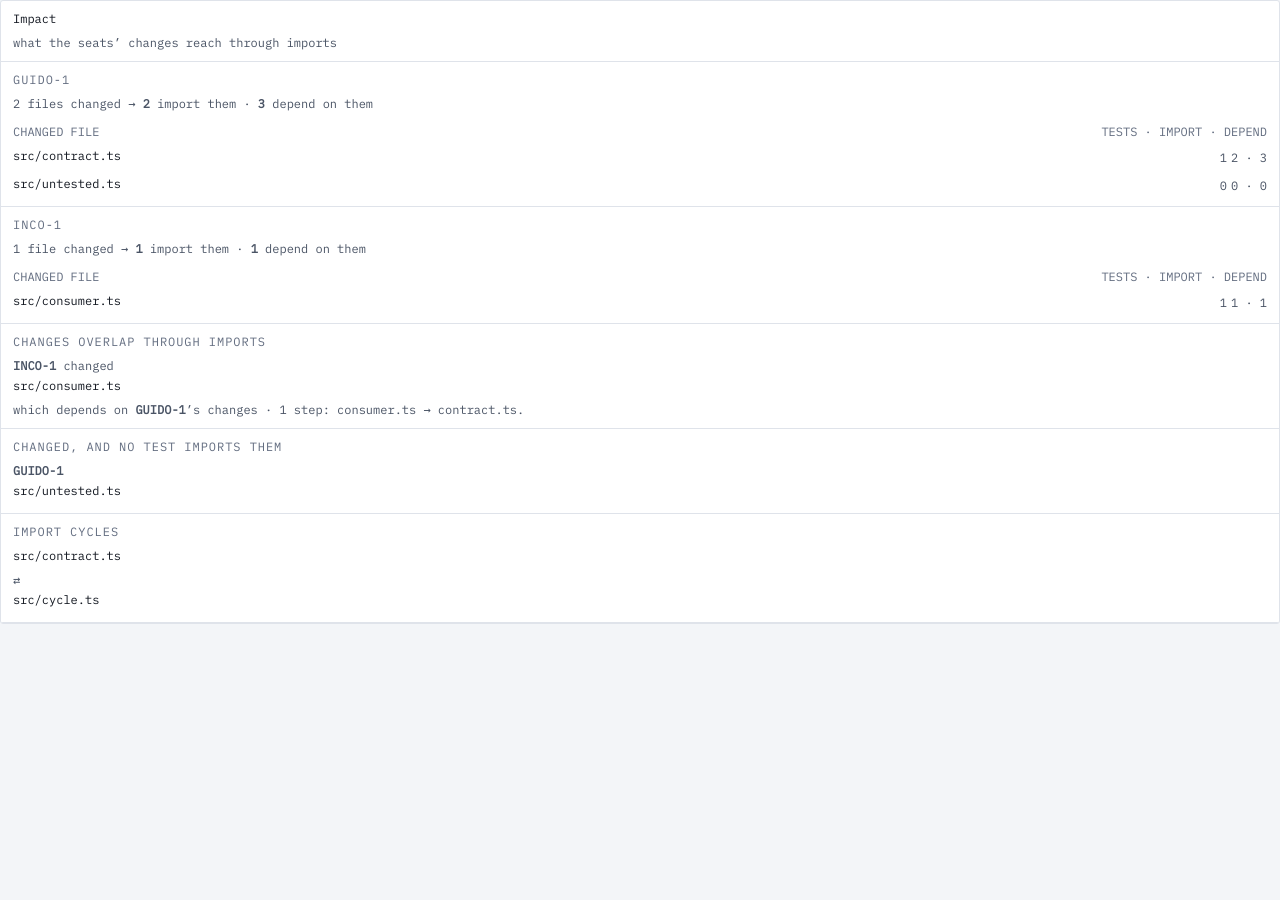
Test: shows Impact tallies, dependency overlap, untested changes, cycles, and a focused import trace
This screenshot has width=1280, height=900.
Expected: the element named "Impact lens" shows "Changes overlap through imports", top-left (13, 334), bottom-right (266, 349)
Expected: the element named "Impact lens" shows "Changed, and no test imports them", top-left (13, 439), bottom-right (282, 454)
Click the button with aria-label "src/contract.ts" at (67, 158), box top-left (13, 146), bottom-right (121, 170)
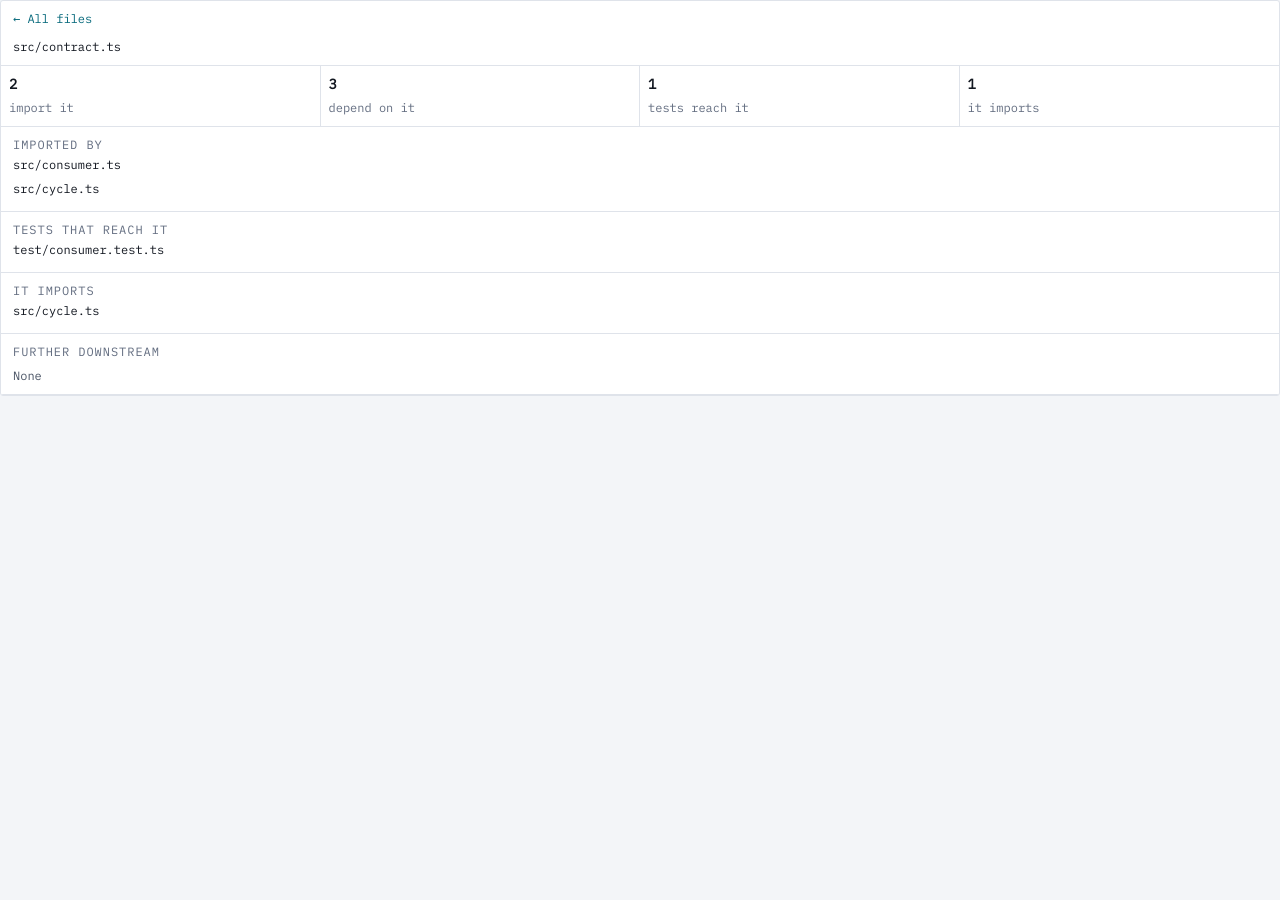
Now the element named "Impact lens" shows "Imported by", box top-left (13, 137), bottom-right (103, 152)
Now the element named "Impact lens" shows "Tests that reach it", box top-left (13, 222), bottom-right (168, 237)
Now the element named "Impact lens" shows "It imports", box top-left (968, 100), bottom-right (1040, 115)
Click the button "← All files" at (53, 21), box top-left (13, 9), bottom-right (92, 33)
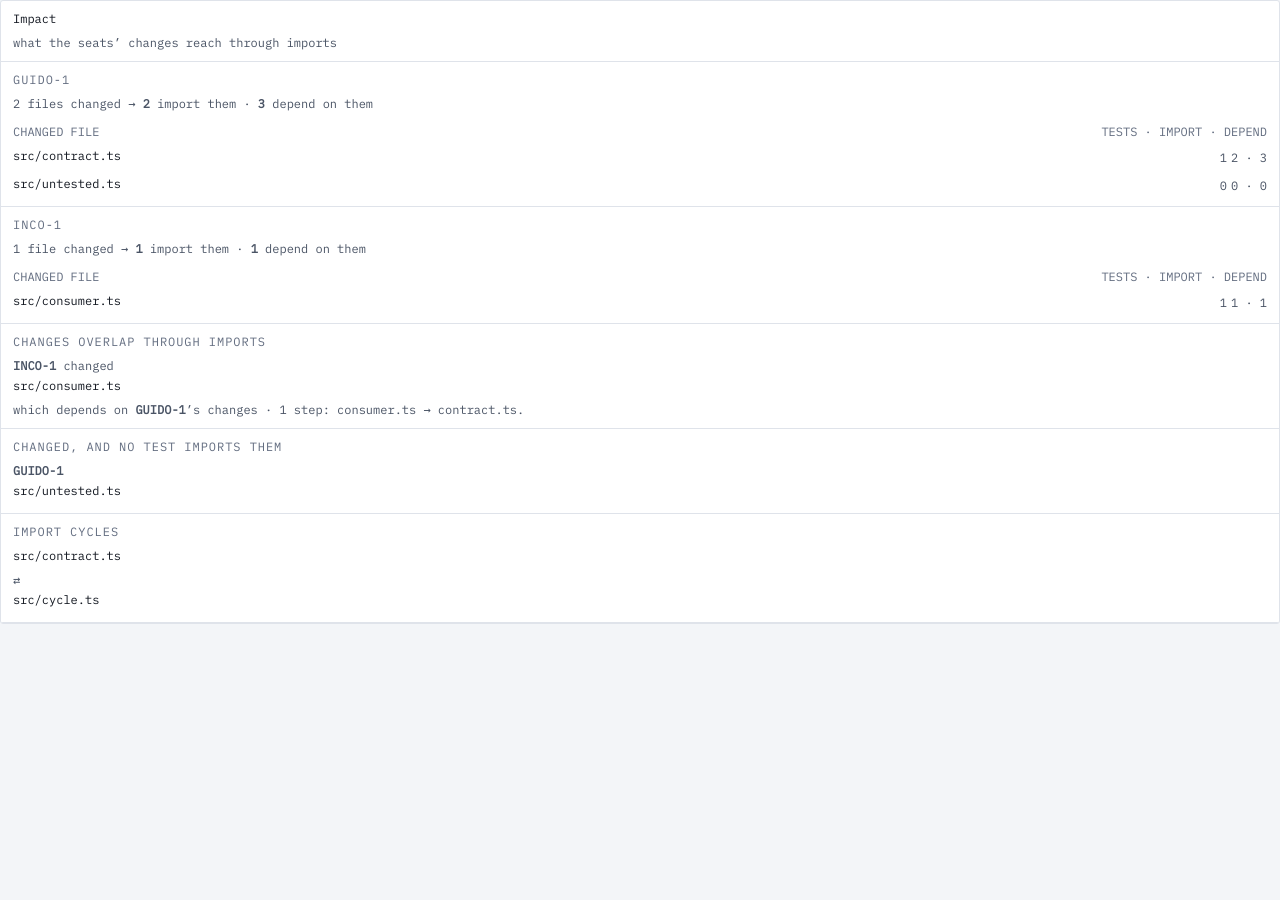
Now the element named "Impact lens" shows "Changes overlap through imports", box top-left (13, 334), bottom-right (266, 349)
